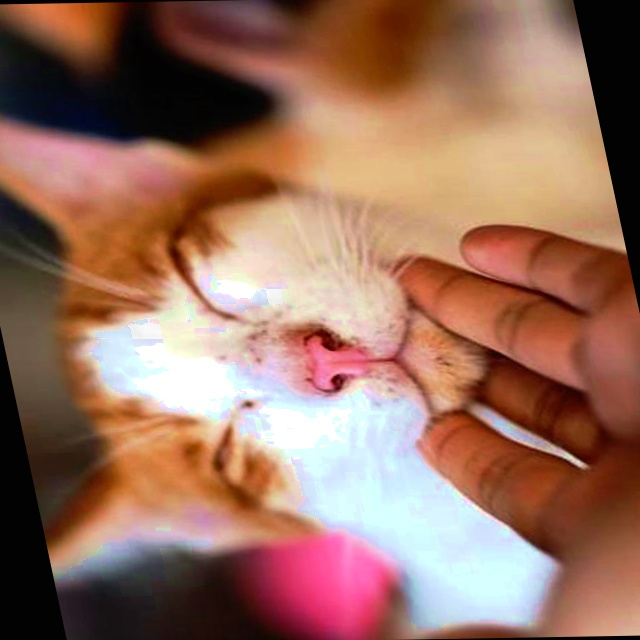acne: (198, 301, 303, 368)
